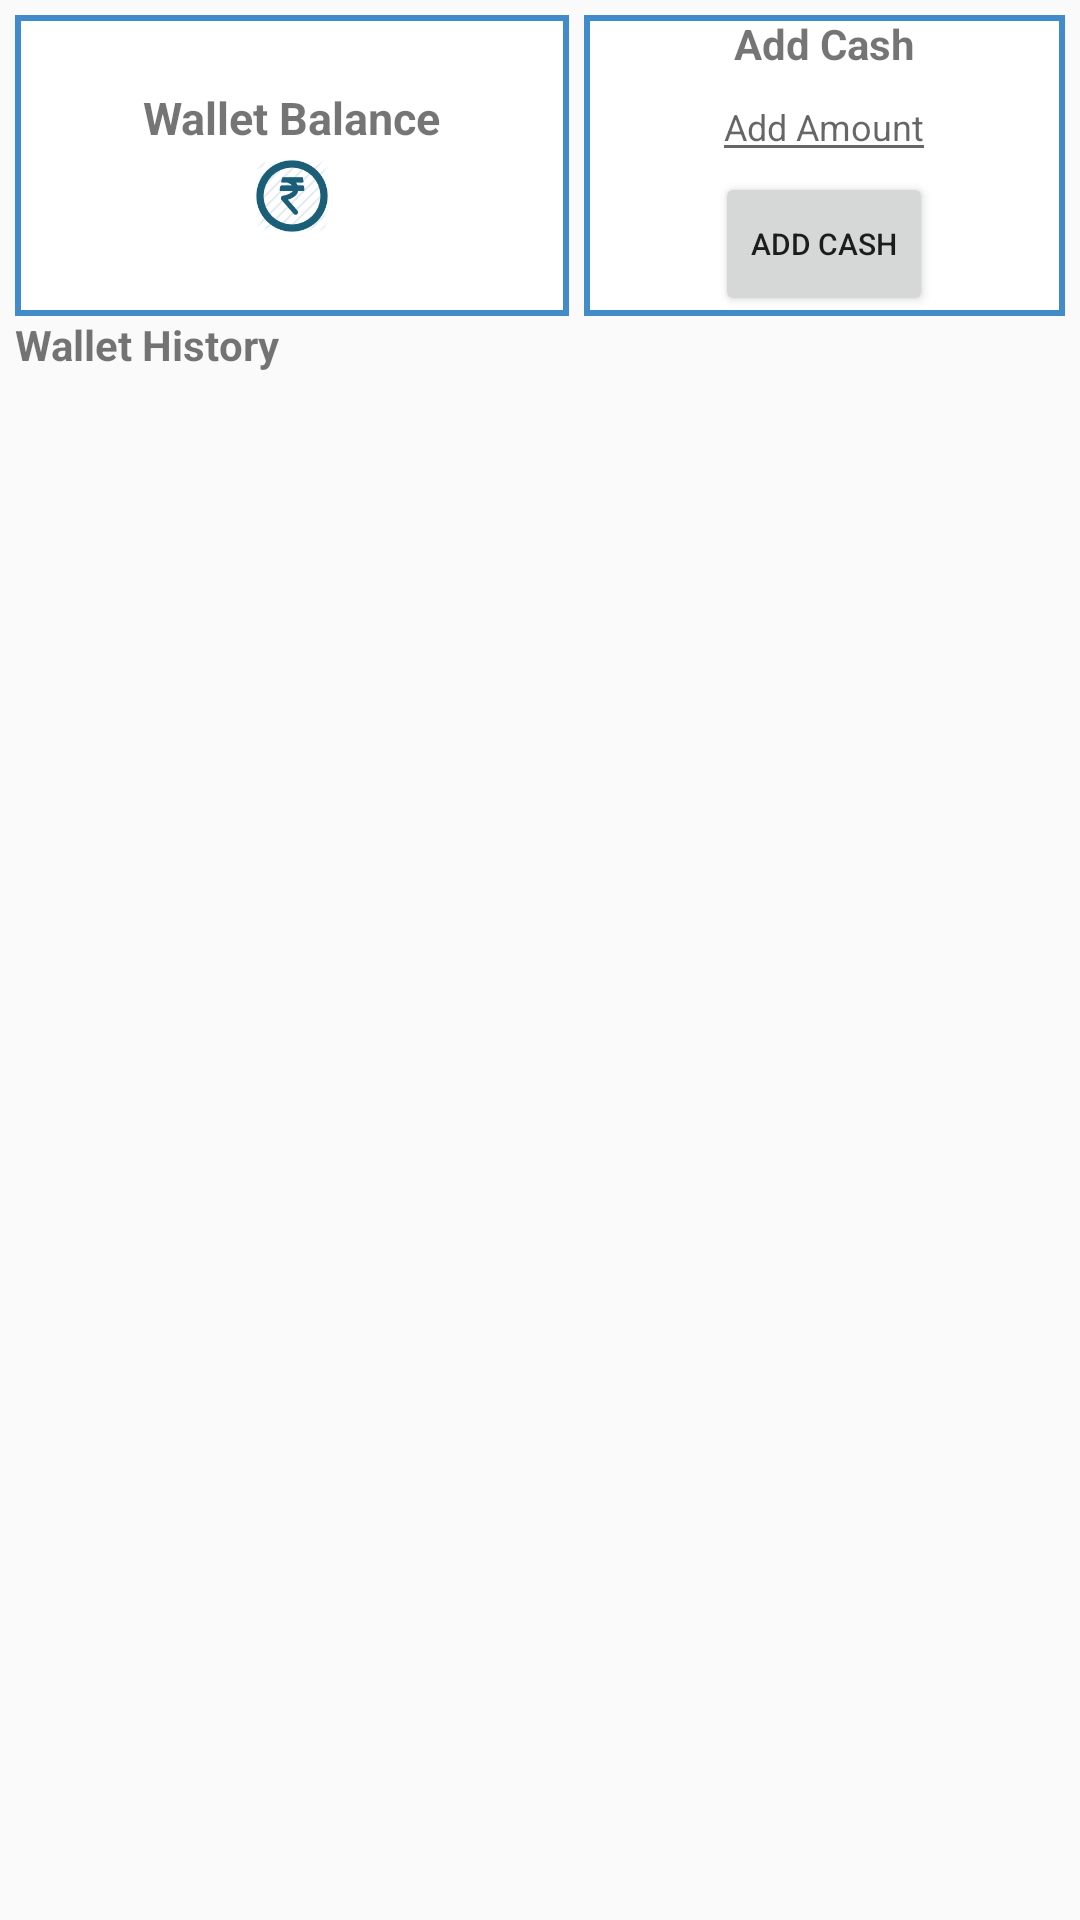

Where icons sit on this 1080×1920 app screen, as (x1, y1, x2, y2):
rupee: (256, 160, 328, 232)
